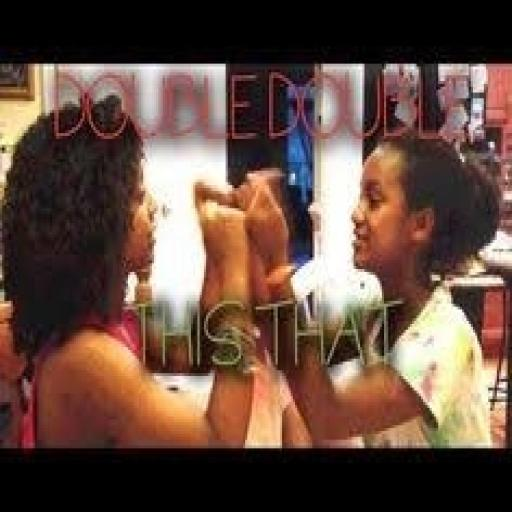clapping: (274, 128, 502, 448)
